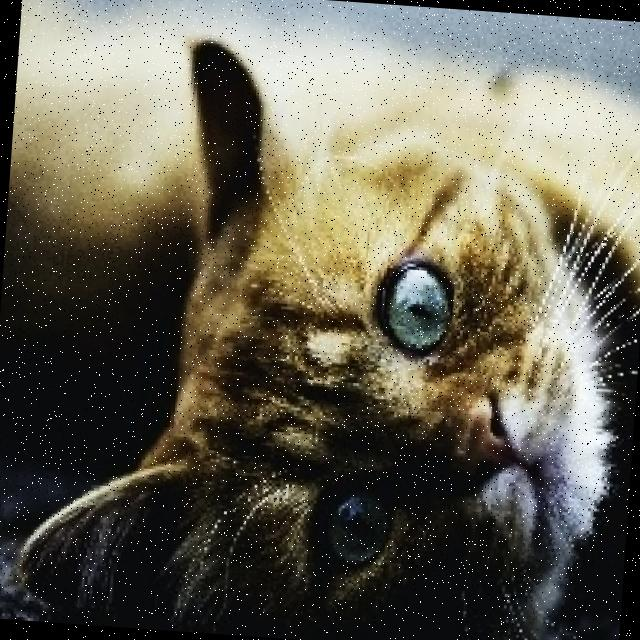Sad: (219, 204, 630, 640)
